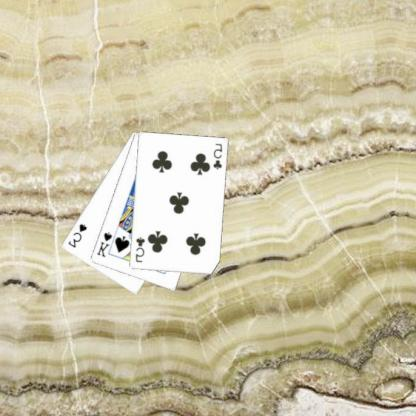3S: (66, 221, 90, 249)
5C: (134, 234, 148, 264), (212, 141, 225, 171)
KS: (95, 230, 115, 258)
